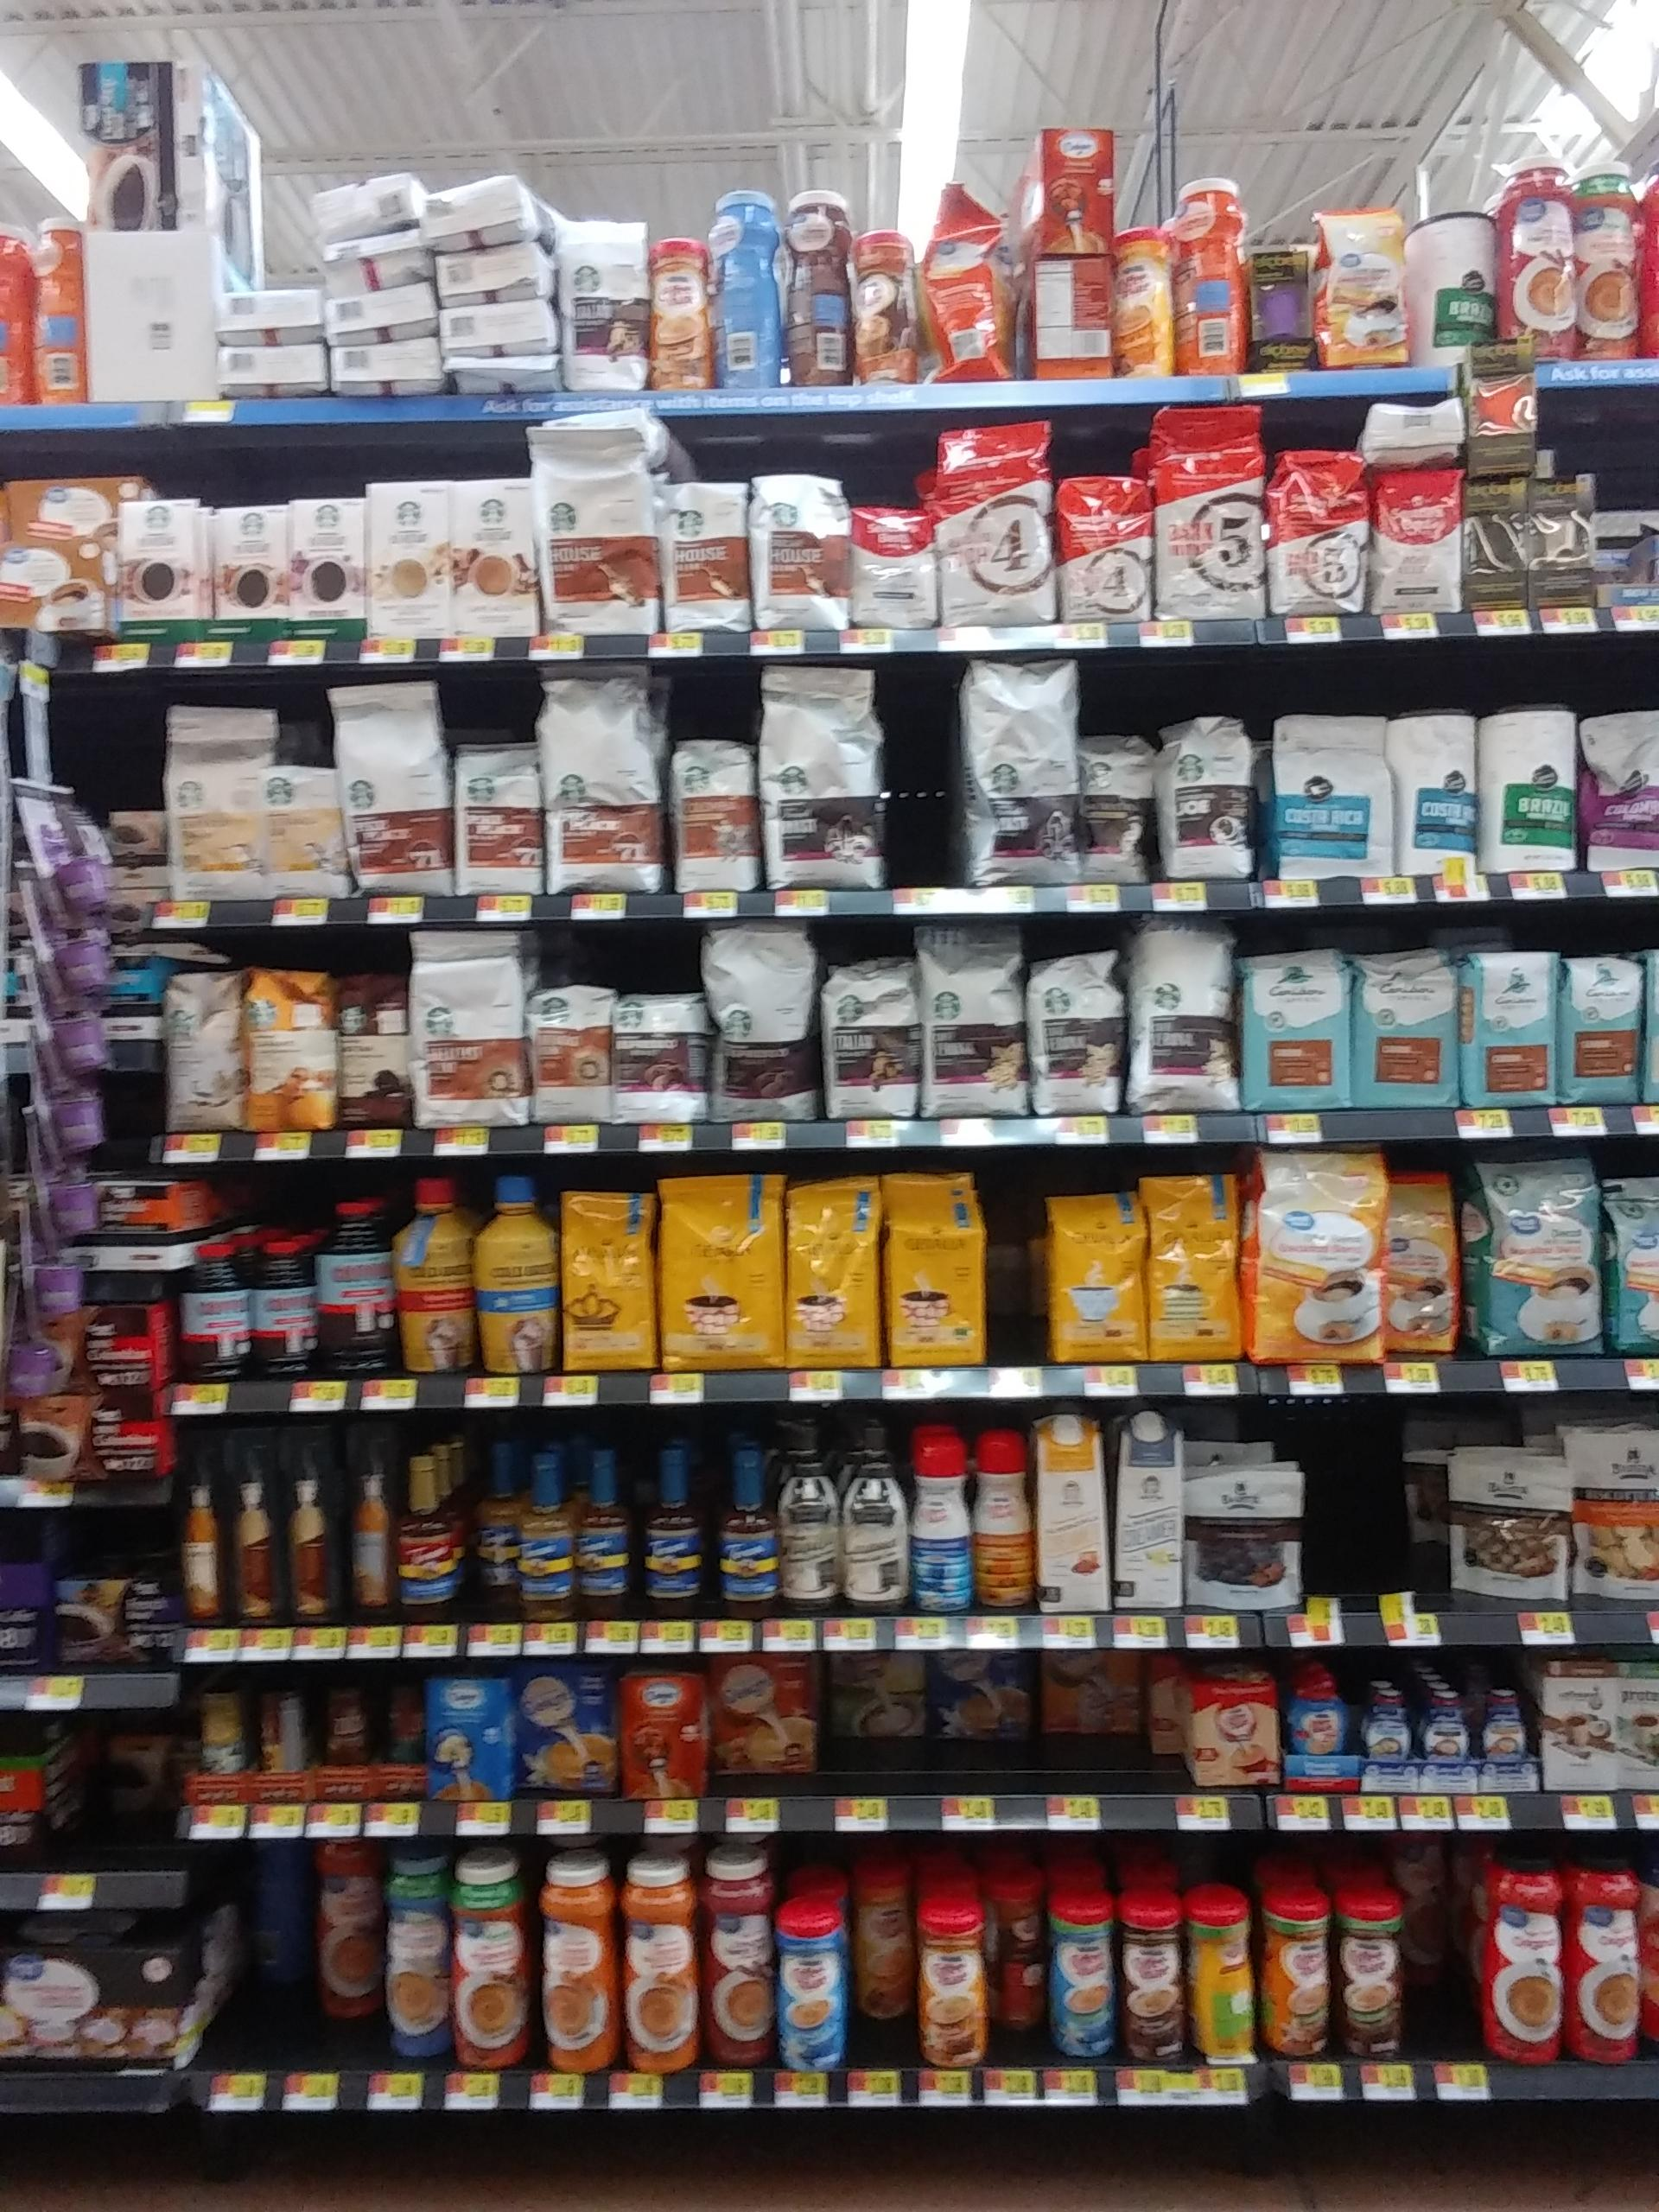empty: (1309, 1447, 1432, 1611), (51, 1709, 173, 1865), (1394, 1836, 1476, 2048), (239, 1850, 321, 2062), (887, 669, 960, 887), (976, 1148, 1049, 1366), (819, 1655, 941, 1778), (955, 1660, 1077, 1784), (1063, 1660, 1185, 1784)
